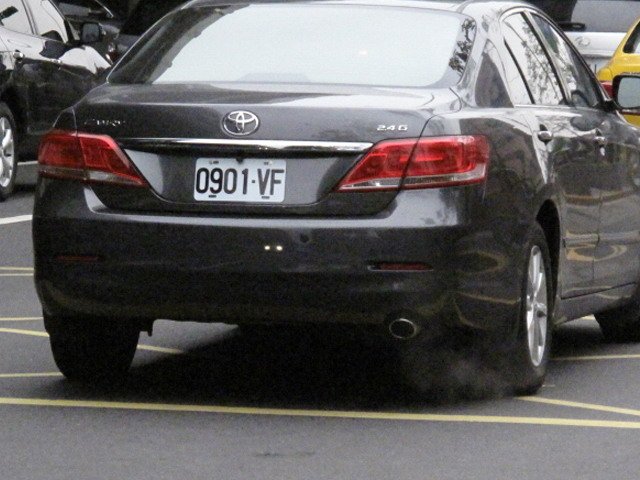plate: (192, 154, 289, 205)
